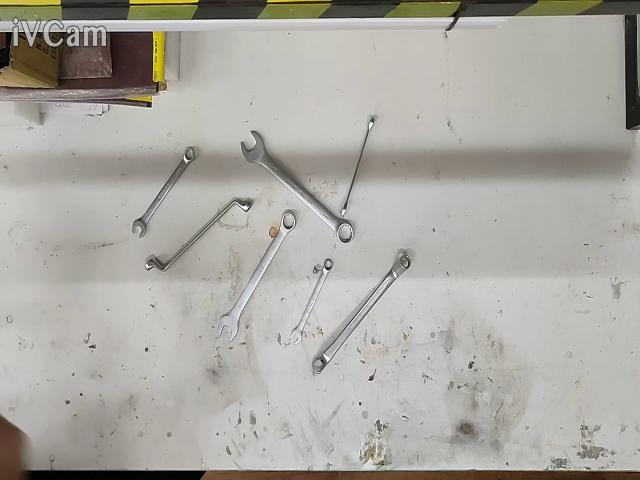Wrench: (240, 130, 354, 244), (312, 253, 411, 373), (218, 210, 296, 341), (145, 198, 252, 272), (132, 147, 195, 238), (291, 258, 332, 344), (341, 115, 375, 216)
